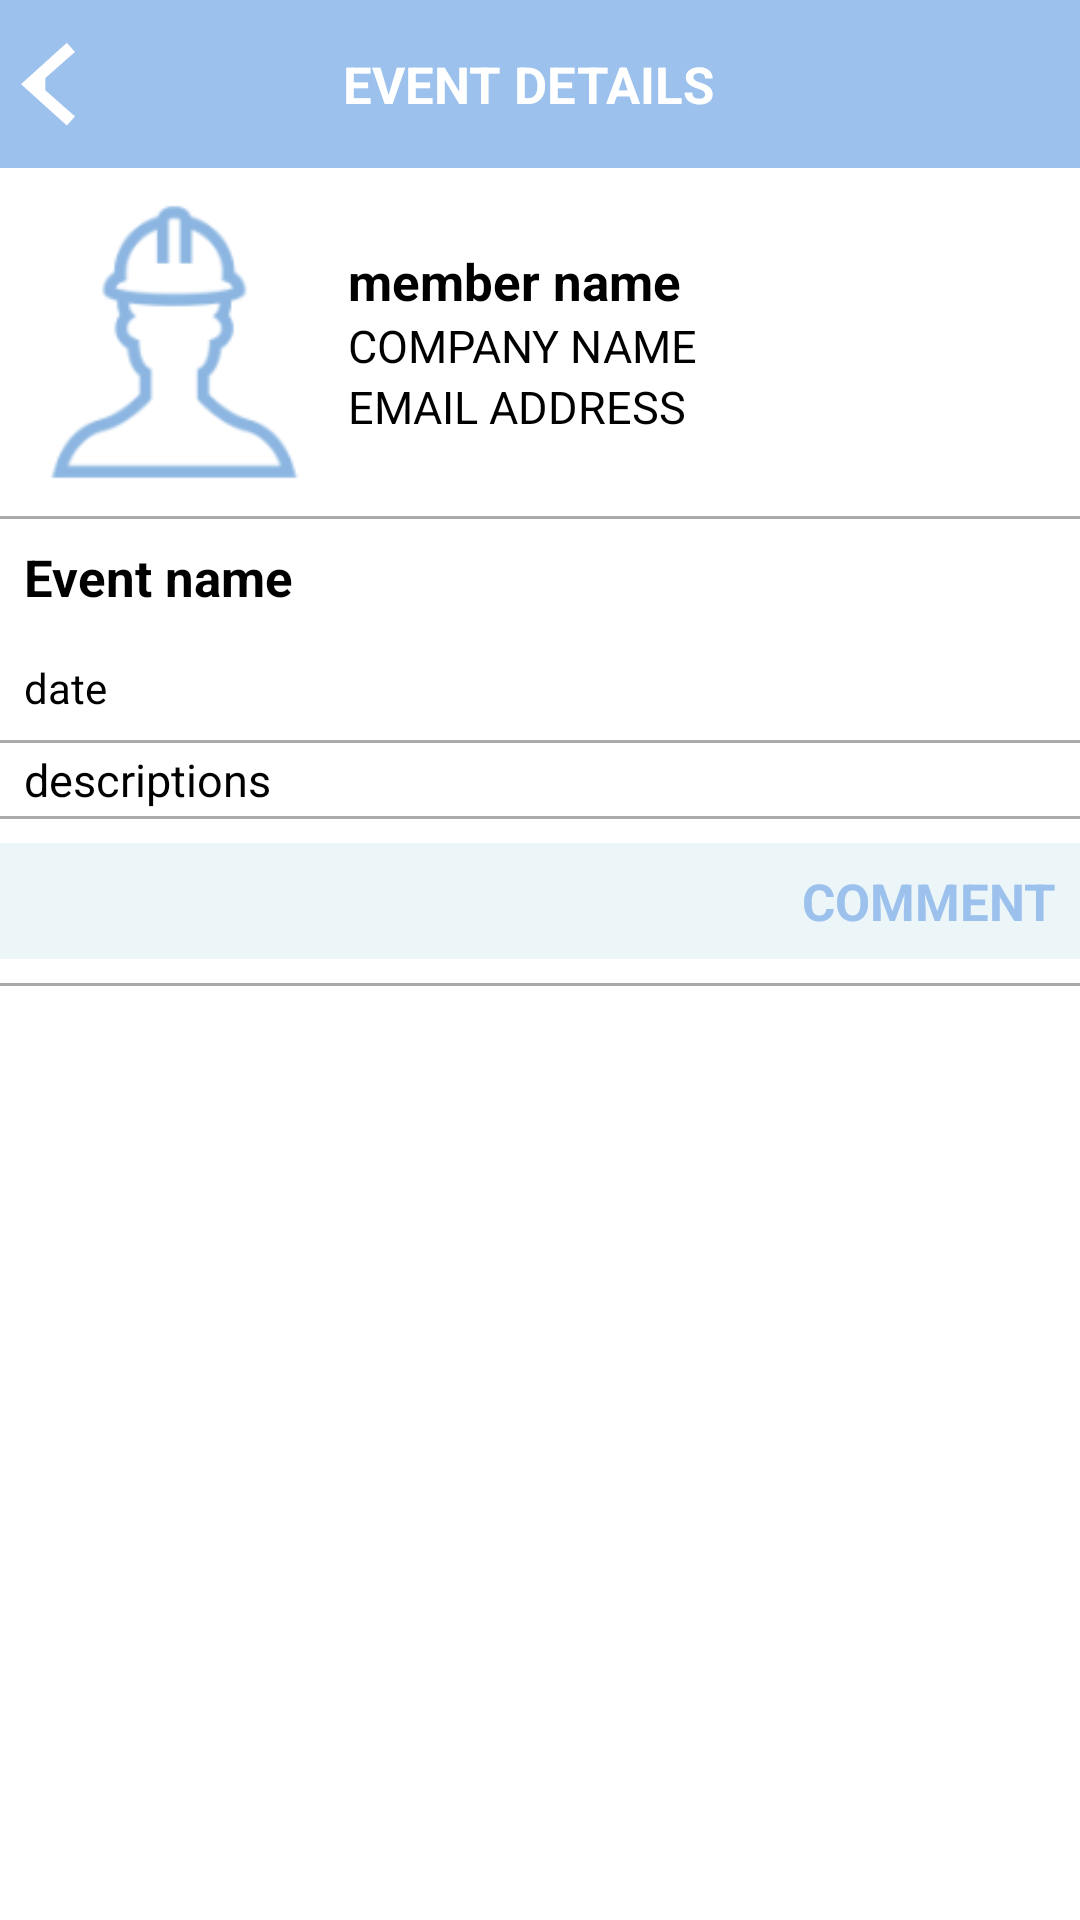

Where to tap for icons on this 1080px x 1920px app screen, as [x,y]:
back: [48,84]
user profile: [174,342]
